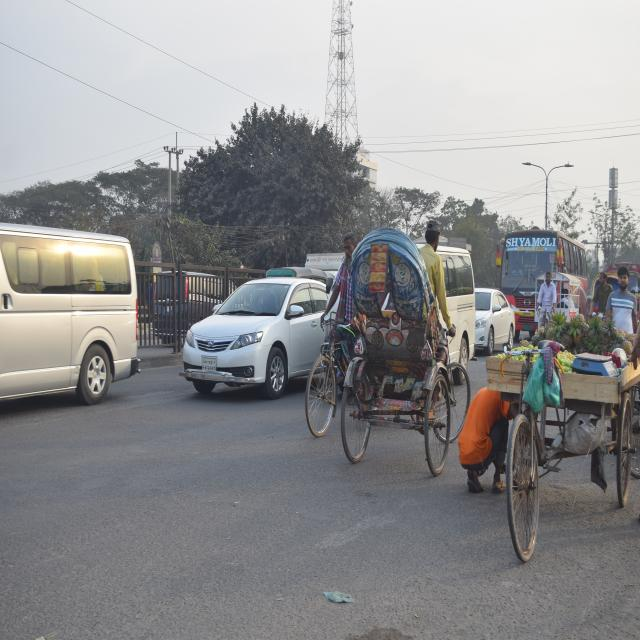bus: (498, 224, 587, 323)
car: (196, 274, 325, 398), (472, 284, 514, 359)
microbus: (0, 218, 134, 394), (420, 242, 474, 376), (153, 265, 221, 323)
